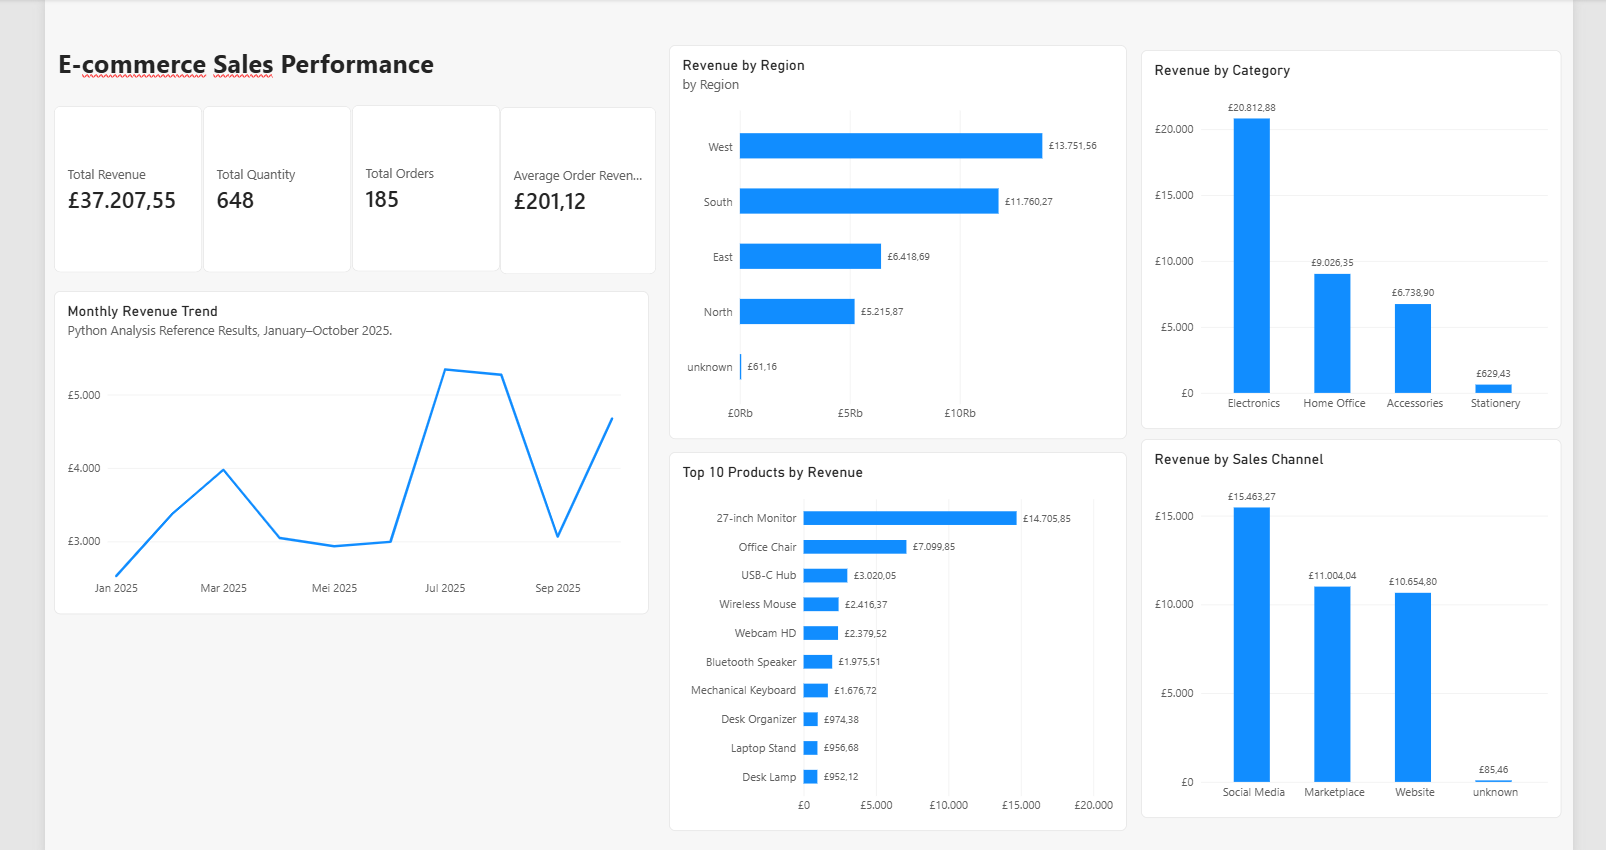

The dashboard page shown, as its layout file describes it:
{"tool":"powerbi","page":{"name":"Halaman 1","canvas":[1920,1080],"ordinal":0},"visuals":[{"type":"cardVisual","fields":{"Data":["ecommerce_valid_revenue_data.Total Revenue"]},"box":[11.3,133.9,186.3,209.6],"z":0},{"type":"cardVisual","fields":{"Data":["ecommerce_valid_revenue_data.Total Quantity"]},"box":[198.4,134.2,186.3,209.6],"z":1000},{"type":"cardVisual","fields":{"Data":["ecommerce_valid_revenue_data.Total Orders"]},"box":[385.2,132.8,186.3,209.6],"z":2000},{"type":"cardVisual","fields":{"Data":["ecommerce_valid_revenue_data.Average Order Revenue"]},"box":[571.9,135.7,197,210.1],"z":3000},{"type":"lineChart","title":"Monthly Revenue Trend","fields":{"Category":["ecommerce_valid_revenue_data.Order_Date.Variation.Hierarki Tanggal.Tahun","ecommerce_valid_revenue_data.Order_Date.Variation.Hierarki Tanggal.Bulan"],"Y":["ecommerce_valid_revenue_data.Total Revenue"]},"box":[11.7,366.2,747,405.6],"z":4000},{"type":"clusteredBarChart","title":"Top 10 Products by Revenue","fields":{"Category":["ecommerce_valid_revenue_data.Product"],"Y":["ecommerce_valid_revenue_data.Total Revenue"]},"box":[783.5,569,574.8,475.6],"z":5000},{"type":"clusteredBarChart","title":"Revenue by Region","fields":{"Category":["ecommerce_valid_revenue_data.Region"],"Y":["ecommerce_valid_revenue_data.Total Revenue"]},"box":[783.5,58.4,574.8,494.6],"z":6000},{"type":"clusteredColumnChart","title":"Revenue by Category","fields":{"Category":["ecommerce_valid_revenue_data.Category"],"Y":["ecommerce_valid_revenue_data.Total Revenue"]},"box":[1375.8,64.2,528.1,475.6],"z":7000},{"type":"clusteredColumnChart","title":"Revenue by Sales Channel","fields":{"Category":["ecommerce_valid_revenue_data.Sales_Channel"],"Y":["ecommerce_valid_revenue_data.Total Revenue"]},"box":[1375.8,552.9,528.1,475.6],"z":8000},{"type":"textbox","box":[16,58.4,757.2,182.4],"z":8001}]}

Visuals, with their boxes on the page's 1920x1080 design canvas (x1, y1, x2, y2). These are canvas units, not pixel positions in the 1606x850 screenshot, which may show the page scaled, cropped or inside an application window:
cardVisual - ecommerce_valid_revenue_data.Total Revenue: <box>11,134,198,344</box>
cardVisual - ecommerce_valid_revenue_data.Total Quantity: <box>198,134,385,344</box>
cardVisual - ecommerce_valid_revenue_data.Total Orders: <box>385,133,572,342</box>
cardVisual - ecommerce_valid_revenue_data.Average Order Revenue: <box>572,136,769,346</box>
"Monthly Revenue Trend" lineChart: <box>12,366,759,772</box>
"Top 10 Products by Revenue" clusteredBarChart: <box>784,569,1358,1045</box>
"Revenue by Region" clusteredBarChart: <box>784,58,1358,553</box>
"Revenue by Category" clusteredColumnChart: <box>1376,64,1904,540</box>
"Revenue by Sales Channel" clusteredColumnChart: <box>1376,553,1904,1028</box>
textbox: <box>16,58,773,241</box>
